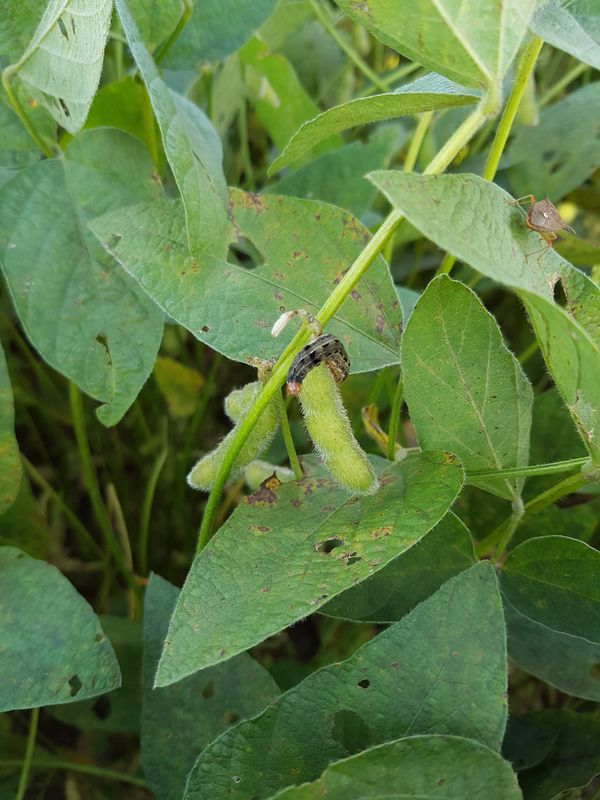Euschistus_heros_adulto: (500, 180, 585, 267)
Spodoptera_albula: (268, 322, 372, 409)
